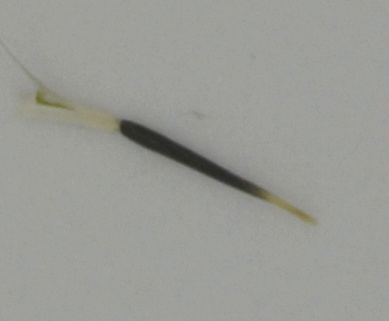เมล็ดดีเรียวยาว: (24, 77, 323, 228)
